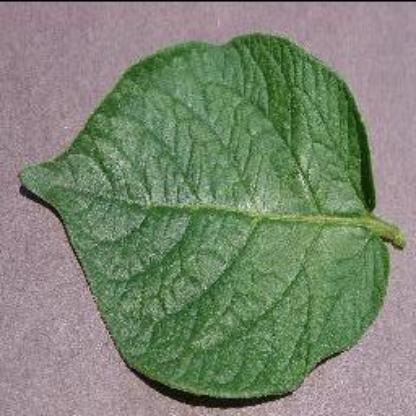Healthy-plant: (17, 30, 407, 400)
